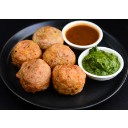bonda: (18, 59, 51, 92), (52, 66, 85, 93), (43, 44, 76, 69), (11, 40, 41, 64), (33, 26, 62, 47)
